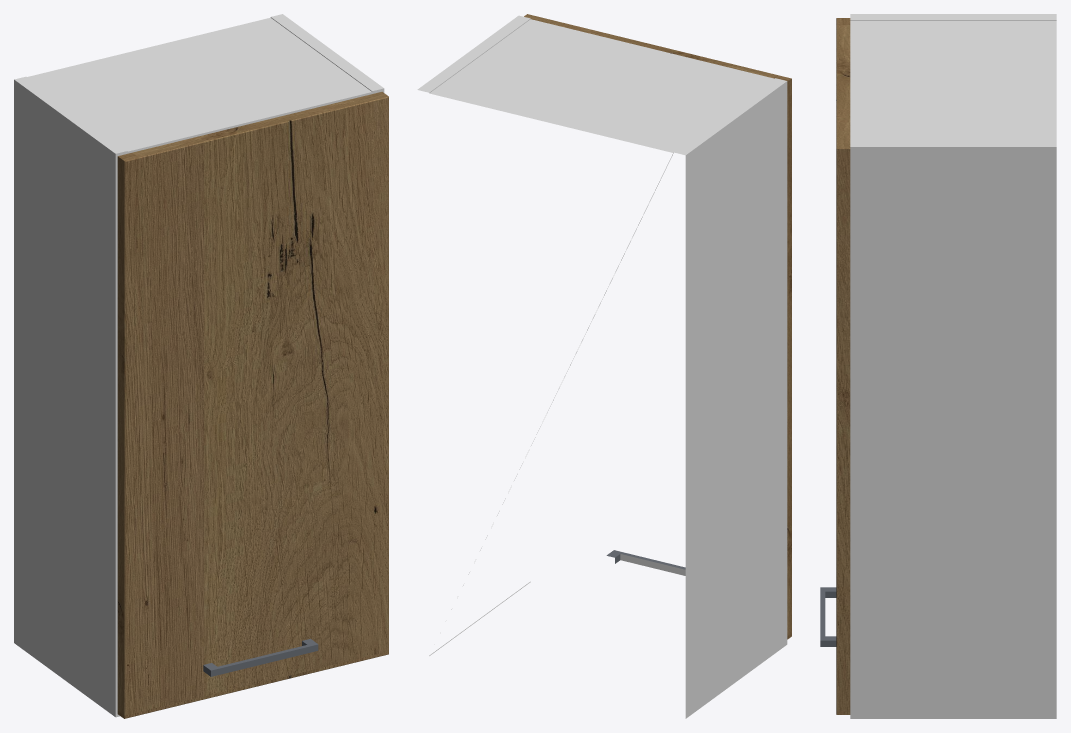
Rendered from gornji_40cm.glb.
3 renders of one model, left to right at view 1: azimuth 30°, elevation 25°; view 2: azimuth 150°, elevation 25°; view 3: azimuth 270°, elevation 25°, orthographic.
Visible parts, largest first — view 1: Group1; view 2: Group1; view 3: Group1.
Boxes of the visible parts, x1,y1,x2,y2 form: Group1: [14, 14, 388, 718]; Group1: [417, 14, 791, 718]; Group1: [820, 14, 1056, 718].
Bounding box in the file's own units: 400 × 802 × 300.
6 materials, 1 textured.
